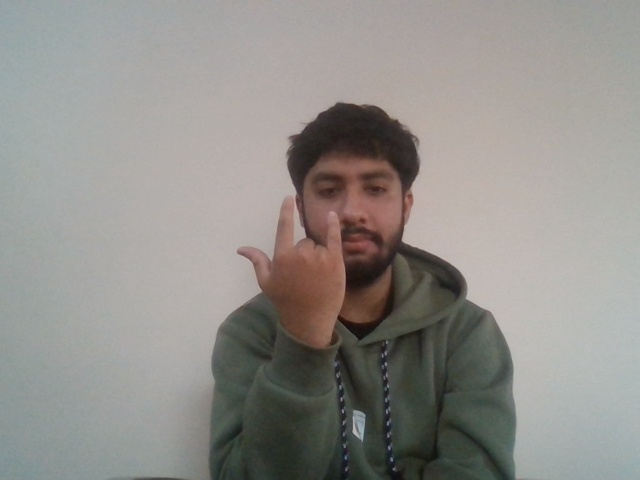IloveYou: (220, 196, 362, 338)
